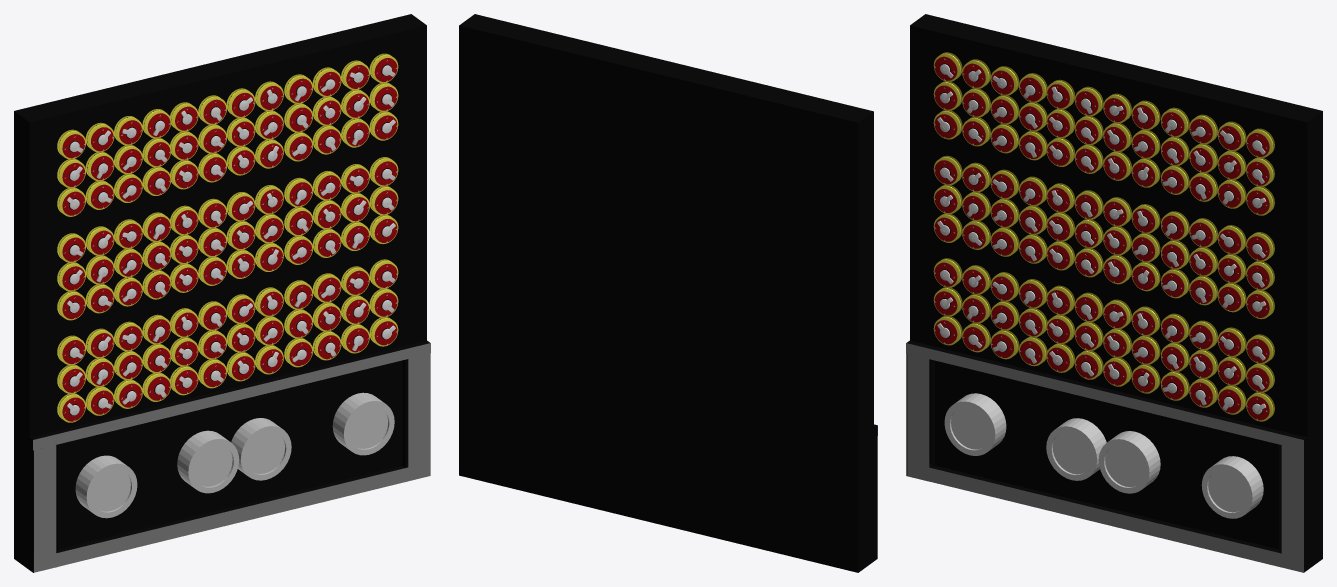
File: aha2.glb
3 renders of one model, left to right at view 1: azimuth 30°, elevation 25°; view 2: azimuth 150°, elevation 25°; view 3: azimuth 330°, elevation 25°, orthographic.
Visible parts, largest first — view 1: Cube, Cube.004, Cube.001, Cylinder, Cylinder.219, Cylinder.217, Cube.002, Cube.003, Cylinder.218, Cylinder.020, Cylinder.120, Cylinder.150 (+105 smaller); view 2: Cube; view 3: Cube, Cube.004, Cube.001, Cylinder, Cylinder.218, Cylinder.219, Cube.002, Cylinder.217, Cube.003, Cylinder.076, Cylinder.160, Cylinder.013 (+105 smaller).
Part boxes in pixels (bbox=[...]): Cube: bbox=[14, 14, 429, 572]; Cube.004: bbox=[56, 467, 408, 566]; Cube.001: bbox=[33, 343, 430, 450]; Cylinder: bbox=[75, 455, 137, 518]; Cylinder.219: bbox=[332, 392, 394, 455]; Cylinder.217: bbox=[177, 430, 238, 493]; Cube.002: bbox=[34, 445, 56, 572]; Cube.003: bbox=[408, 353, 430, 480]; Cylinder.218: bbox=[231, 418, 291, 480]; Cylinder.020: bbox=[312, 67, 341, 96]; Cylinder.120: bbox=[369, 186, 398, 215]; Cylinder.150: bbox=[114, 321, 142, 351]; Cube: bbox=[459, 14, 877, 572]; Cube: bbox=[906, 14, 1322, 572]; Cube.004: bbox=[929, 467, 1281, 567]; Cube.001: bbox=[906, 343, 1303, 450]; Cylinder: bbox=[944, 393, 1006, 455]; Cylinder.218: bbox=[1098, 431, 1160, 493]; Cylinder.219: bbox=[1201, 456, 1263, 518]; Cube.002: bbox=[907, 354, 929, 481]; Cylinder.217: bbox=[1046, 418, 1106, 480]; Cube.003: bbox=[1281, 445, 1303, 572]; Cylinder.076: bbox=[962, 162, 990, 192]; Cylinder.160: bbox=[1131, 306, 1160, 336]; Cylinder.013: bbox=[962, 59, 990, 88].
Bounding box in the file's own units: 46.17 × 49.68 × 5.38.
